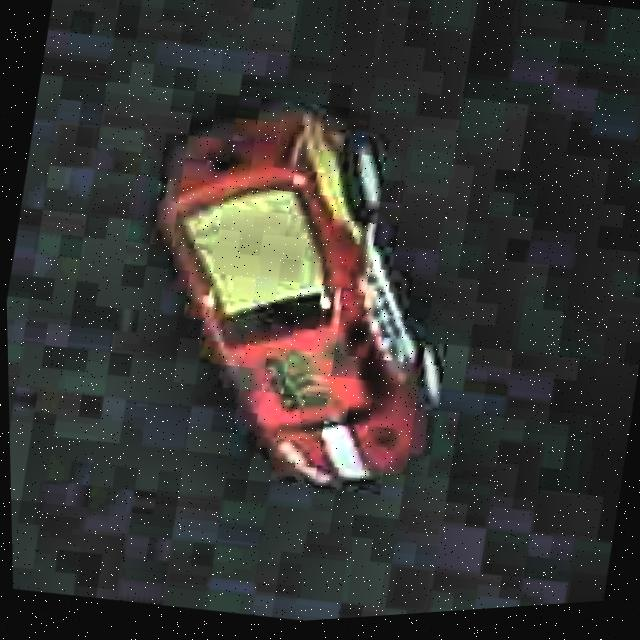car: (106, 64, 492, 522)
